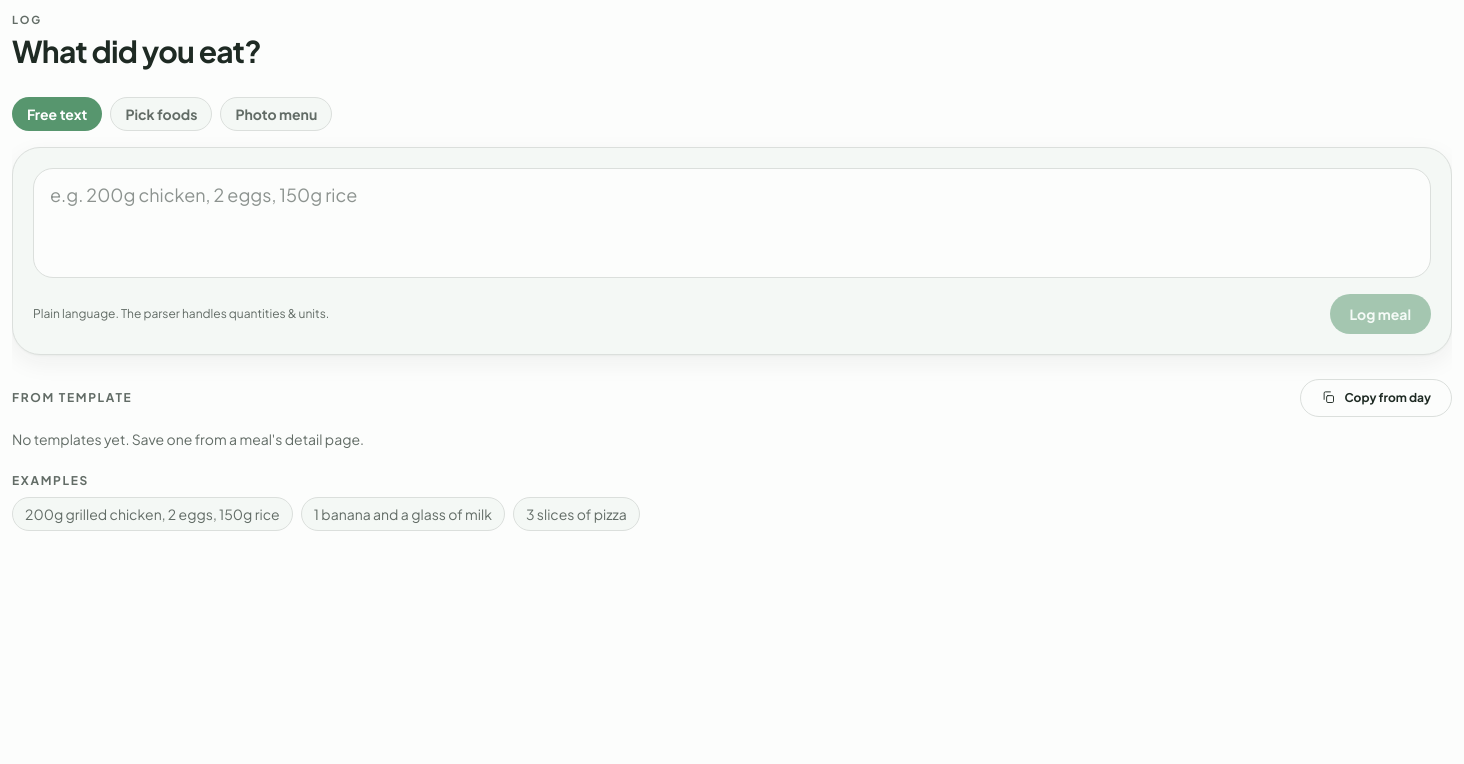
Test: LogMeal picker mode (FoodPicker) › shows the library empty state, then the no-matches state while searching
The width and height of the screenshot is (1464, 764).
Step 1. Click the button "Pick foods" → (161, 114), box top-left (110, 96), bottom-right (212, 130)
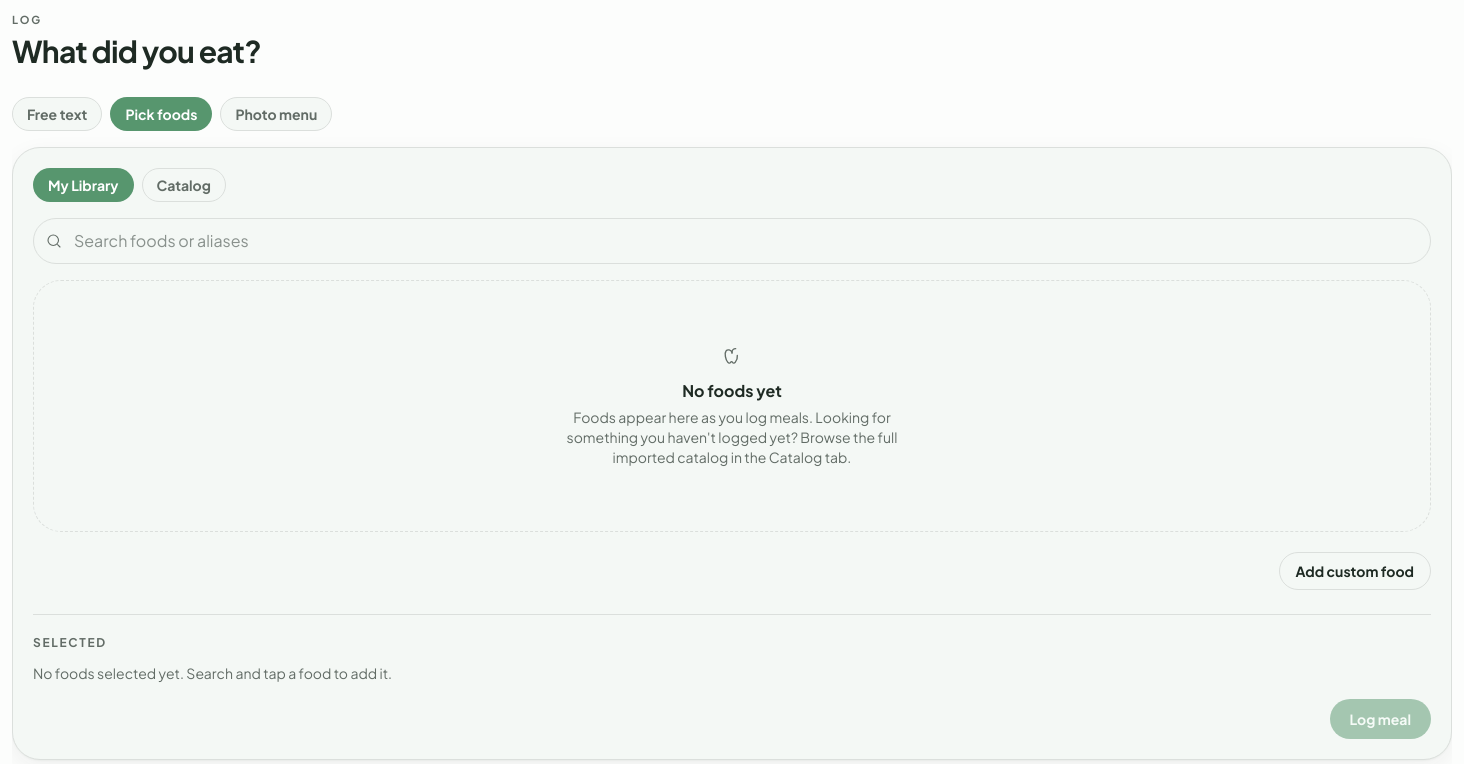
Expected: the field labelled "Search foods" is shown
Expected: the text "No foods yet" is shown, top-left (682, 378), bottom-right (782, 402)
Step 2. Type "xyz" into the field labelled "Search foods" → (732, 240), box top-left (33, 218), bottom-right (1431, 264)
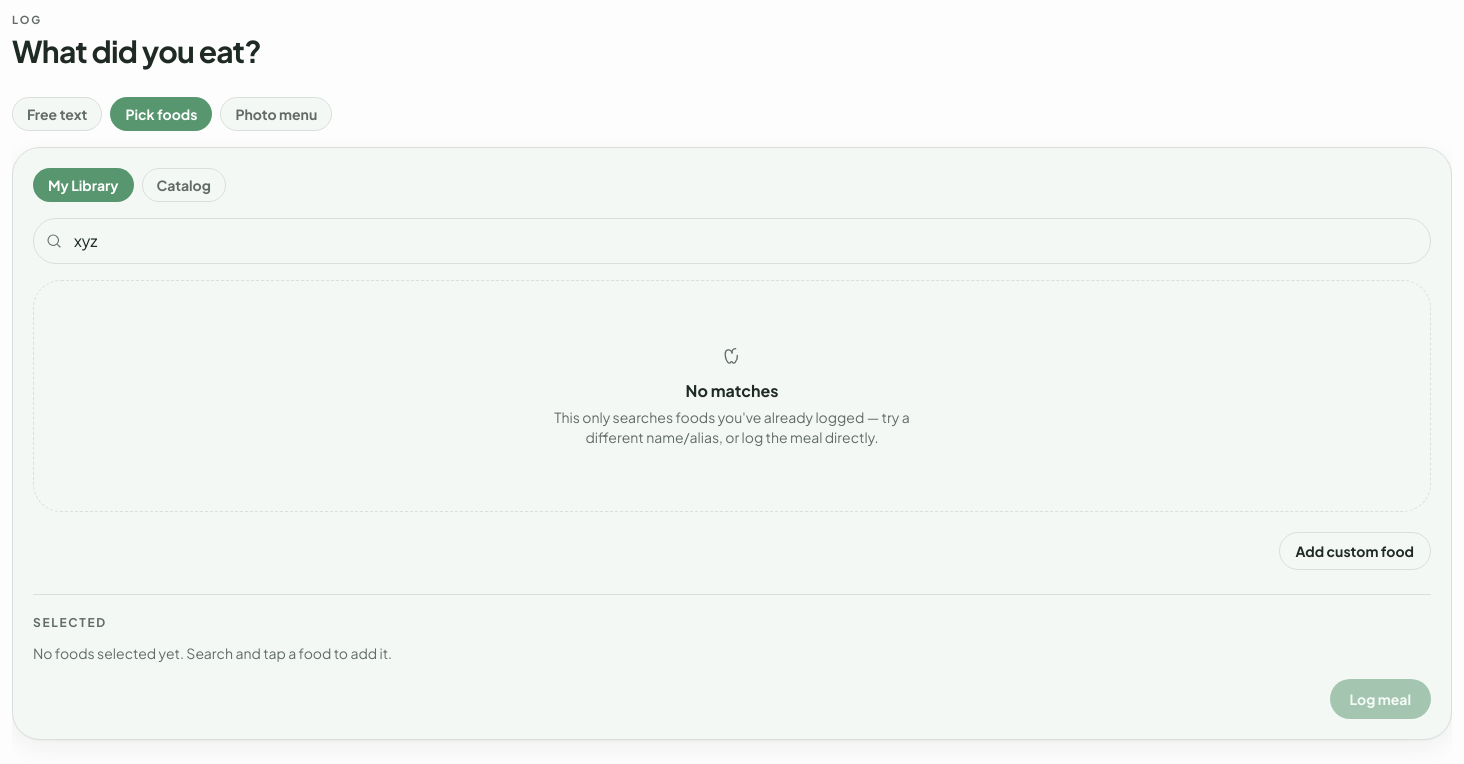
Expected: the text "No matches" is shown, top-left (686, 378), bottom-right (778, 402)
